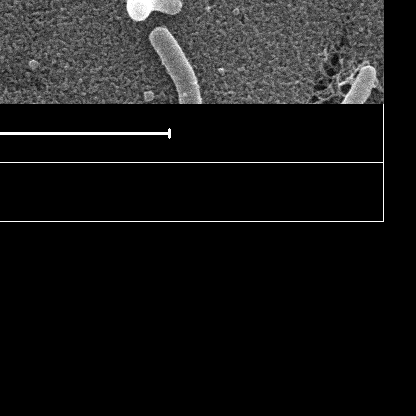curved: (131, 0, 181, 23)
filament: (150, 25, 202, 101)
regular: (344, 64, 378, 103)
